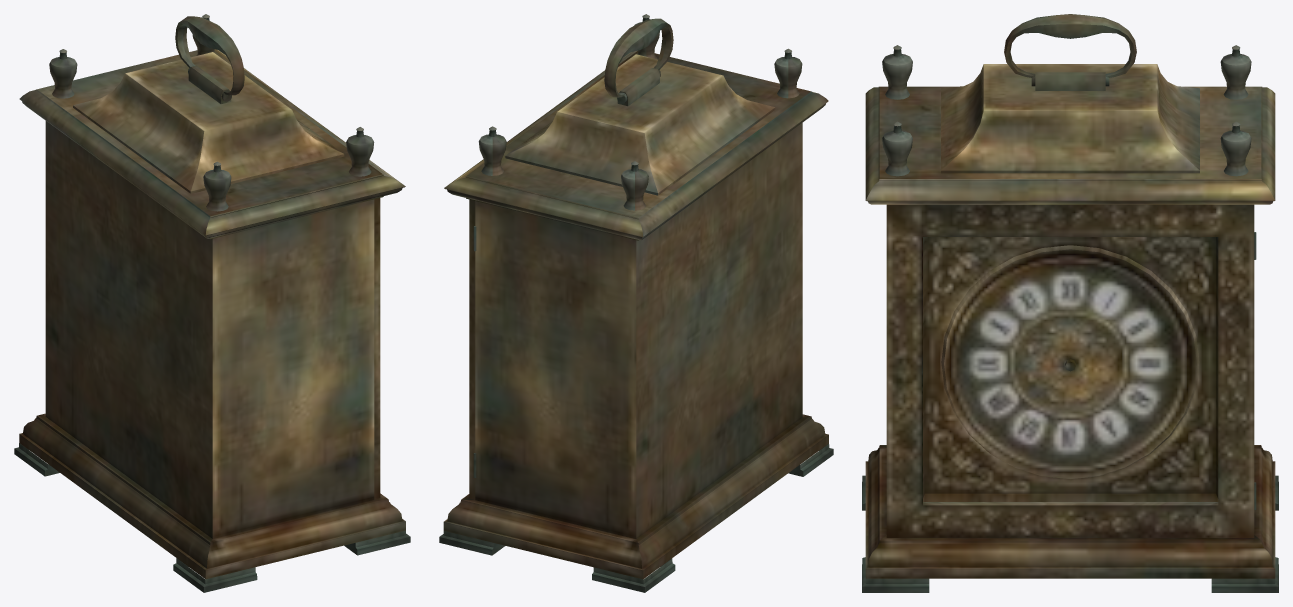
Rendered from clock-carriage.glb.
3 views of the same model, side by side, from view 1: azimuth 30°, elevation 25°; view 2: azimuth 150°, elevation 25°; view 3: azimuth 270°, elevation 25° (orthographic). The views are drawn at different scales.
Visible parts, largest first — view 1: clock-carriage; view 2: clock-carriage; view 3: clock-carriage.
Part boxes in pixels (x1,y1,x2,y2): clock-carriage: [14, 14, 410, 592]; clock-carriage: [439, 14, 833, 592]; clock-carriage: [862, 14, 1278, 592].
Size of the model in its own units: 0.1275 by 0.28 by 0.2026.
1 material, 1 textured.
